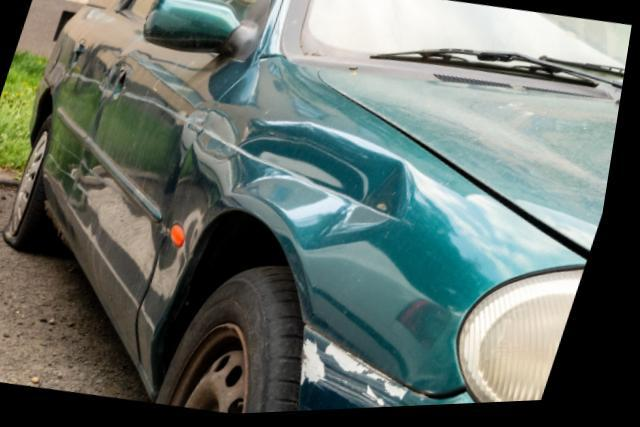dent: (202, 111, 414, 253)
scratch: (312, 329, 449, 414)
tire flat: (10, 115, 57, 250)
